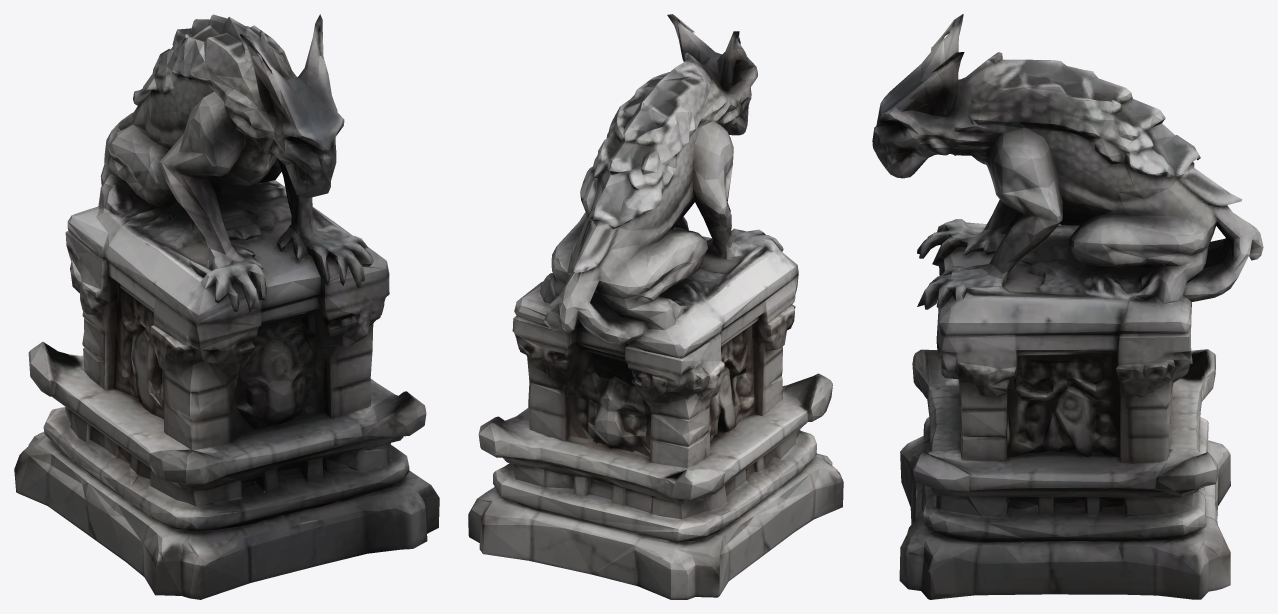
The model's file is prop_cathedral_spire.glb.
3 views of the same model, side by side, from view 1: azimuth 30°, elevation 25°; view 2: azimuth 150°, elevation 25°; view 3: azimuth 270°, elevation 25° (orthographic). The views are drawn at different scales.
Parts seen in each view (by area): view 1: geometry_0; view 2: geometry_0; view 3: geometry_0.
Boxes of the visible parts, x1=… form: geometry_0: x1=14, y1=14, x2=439, y2=599; geometry_0: x1=468, y1=14, x2=843, y2=599; geometry_0: x1=872, y1=14, x2=1263, y2=599.
Size of the model in its own units: 0.5667 by 1 by 0.7059.
Materials: 1 (1 with a texture image).
